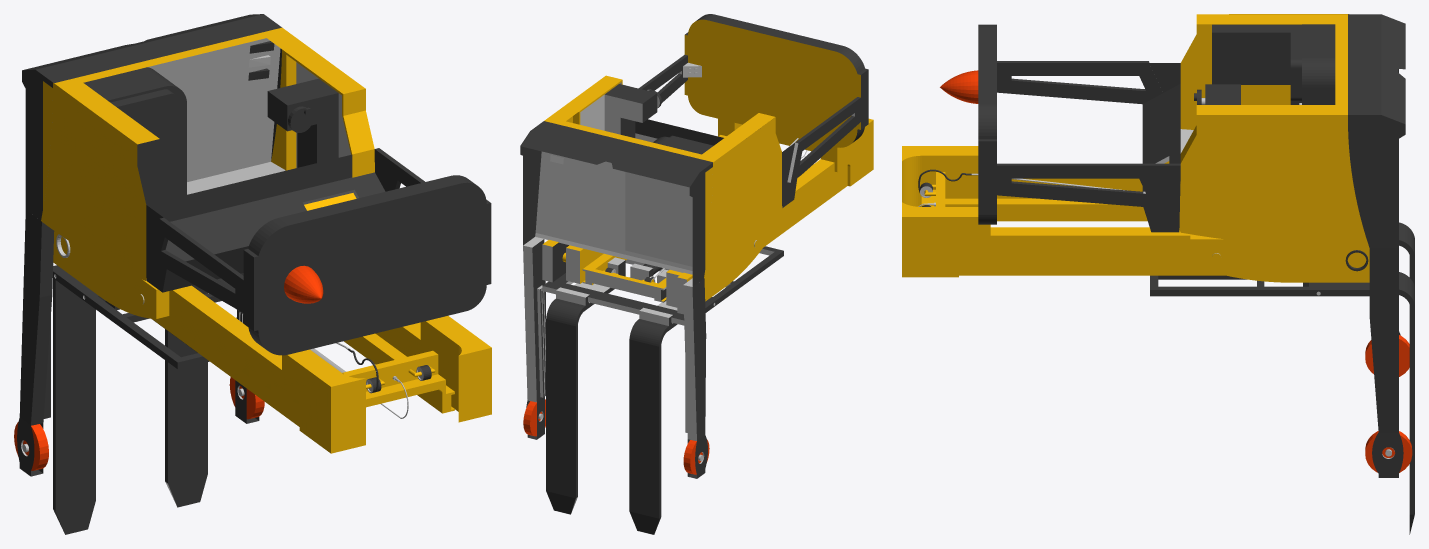
The model's file is forklift.obj.
The picture shows the model from 3 angles, left to right: view 1: azimuth 30°, elevation 25°; view 2: azimuth 150°, elevation 25°; view 3: azimuth 270°, elevation 25°; orthographic projection. The views are drawn at different scales.
Visible parts, largest first — view 1: obj3790, obj3871, obj3872, obj27, obj3435, obj283, obj4481, obj3889, obj4495, obj3766, obj392, obj3757 (+42 smaller); view 2: obj3789, obj3872, obj3871, obj3873, obj30, obj3436, obj3758, obj3766, obj283, obj3757, obj4495, obj3853 (+33 smaller); view 3: obj3843, obj279, obj3845, obj570, obj3787, obj3761, obj4487, obj672, obj3922, obj3871, obj3766, obj327 (+23 smaller).
Part boxes in pixels (box(x1,y1,x2,y2)): obj3790: box(254, 182, 491, 355); obj3871: box(41, 82, 146, 277); obj3872: box(147, 38, 280, 181); obj27: box(55, 280, 95, 534); obj3435: box(168, 285, 207, 507); obj283: box(152, 290, 299, 426); obj4481: box(165, 172, 385, 261); obj3889: box(146, 154, 352, 221); obj4495: box(43, 81, 79, 238); obj3766: box(36, 14, 281, 82); obj392: box(53, 231, 156, 318); obj3757: box(19, 210, 41, 424); obj3789: box(684, 19, 860, 147); obj3872: box(535, 151, 692, 270); obj3871: box(704, 117, 781, 278); obj3873: box(625, 172, 692, 266); obj30: box(629, 339, 659, 518); obj3436: box(546, 319, 575, 498); obj3758: box(520, 131, 699, 187); obj3766: box(530, 121, 712, 172); obj283: box(763, 163, 847, 247); obj3757: box(692, 278, 706, 440); obj4495: box(705, 154, 732, 269); obj3853: box(790, 98, 860, 182); obj3843: box(1179, 115, 1367, 243); obj279: box(959, 235, 1224, 275); obj3845: box(978, 141, 1180, 230); obj570: box(1190, 239, 1369, 282); obj3787: box(1348, 115, 1405, 247); obj3761: box(1369, 248, 1398, 432); obj4487: box(997, 63, 1162, 104); obj672: box(902, 217, 990, 277); obj3922: box(1212, 32, 1290, 84); obj3871: box(1180, 14, 1348, 129); obj3766: box(1348, 14, 1381, 114); obj327: box(922, 155, 1142, 198).
Size of the model in its own units: 66.69 by 130 by 137.
